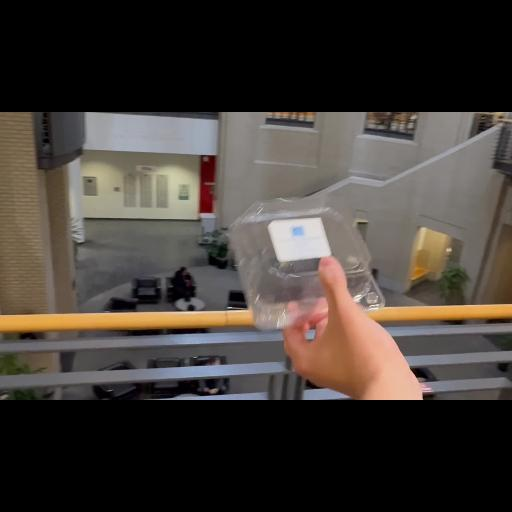small_plastic_container: (220, 194, 398, 344)
